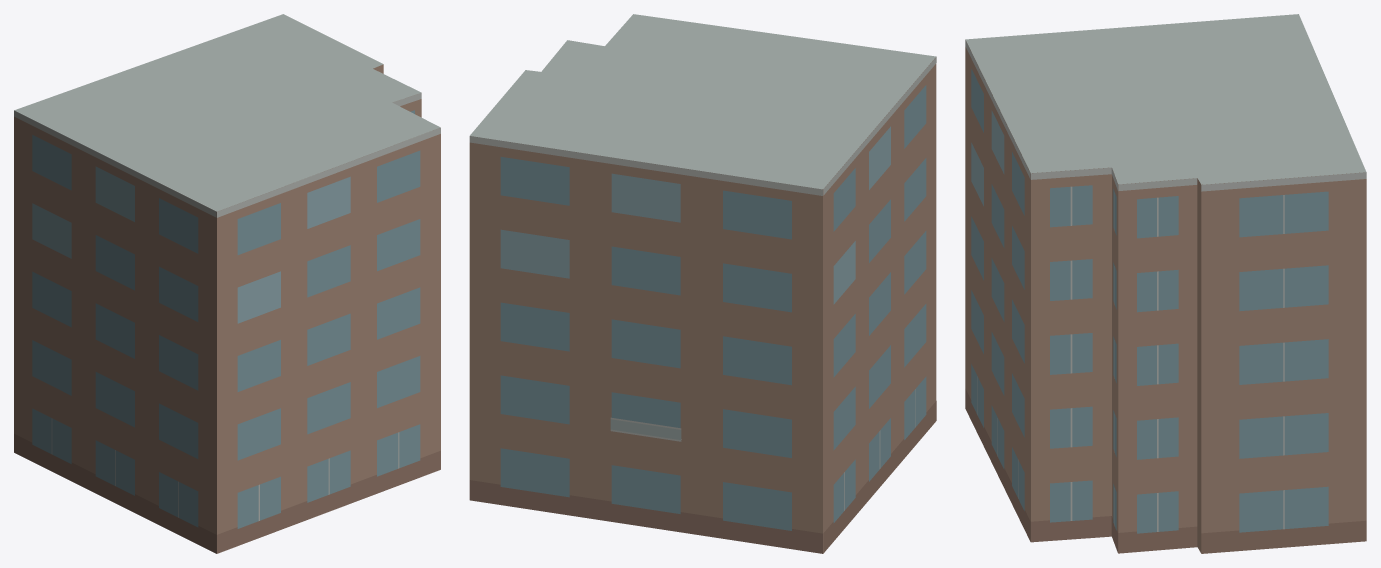
The model's file is survey-upis-32830641.glb.
3 views of the same model, side by side, from view 1: azimuth 30°, elevation 25°; view 2: azimuth 150°, elevation 25°; view 3: azimuth 270°, elevation 25° (orthographic). The views are drawn at different scales.
Parts seen in each view (by area): view 1: survey-upis-32830641.tmp; view 2: survey-upis-32830641.tmp; view 3: survey-upis-32830641.tmp.
Part boxes in pixels (<box>): survey-upis-32830641.tmp: <box>14,14,440,553</box>; survey-upis-32830641.tmp: <box>469,14,936,553</box>; survey-upis-32830641.tmp: <box>965,14,1366,553</box>.
Bounding box in the file's own units: 13.31 × 13.4 × 13.21.
